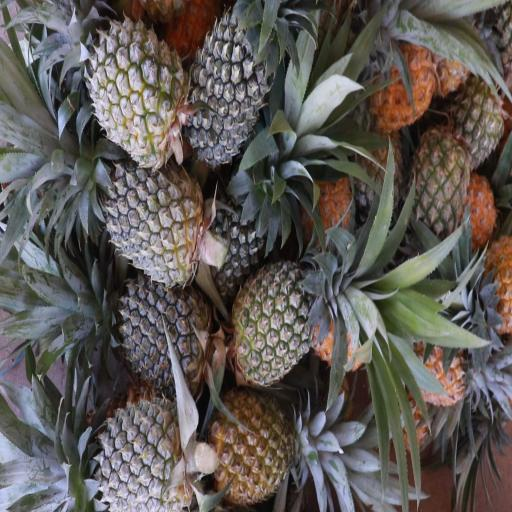------------------------------: (94, 16, 183, 168), (234, 261, 332, 380), (206, 389, 298, 500), (407, 136, 471, 240)
Pineapple - v8 v1: (375, 45, 440, 129)
